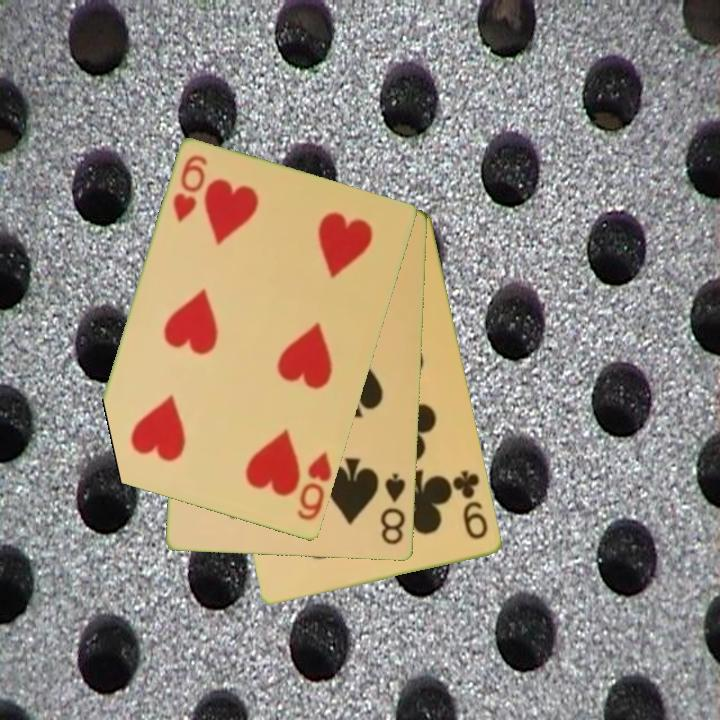6h: (293, 449, 335, 524), (169, 152, 211, 226)
8s: (377, 470, 409, 548)
9c: (450, 466, 492, 543)
